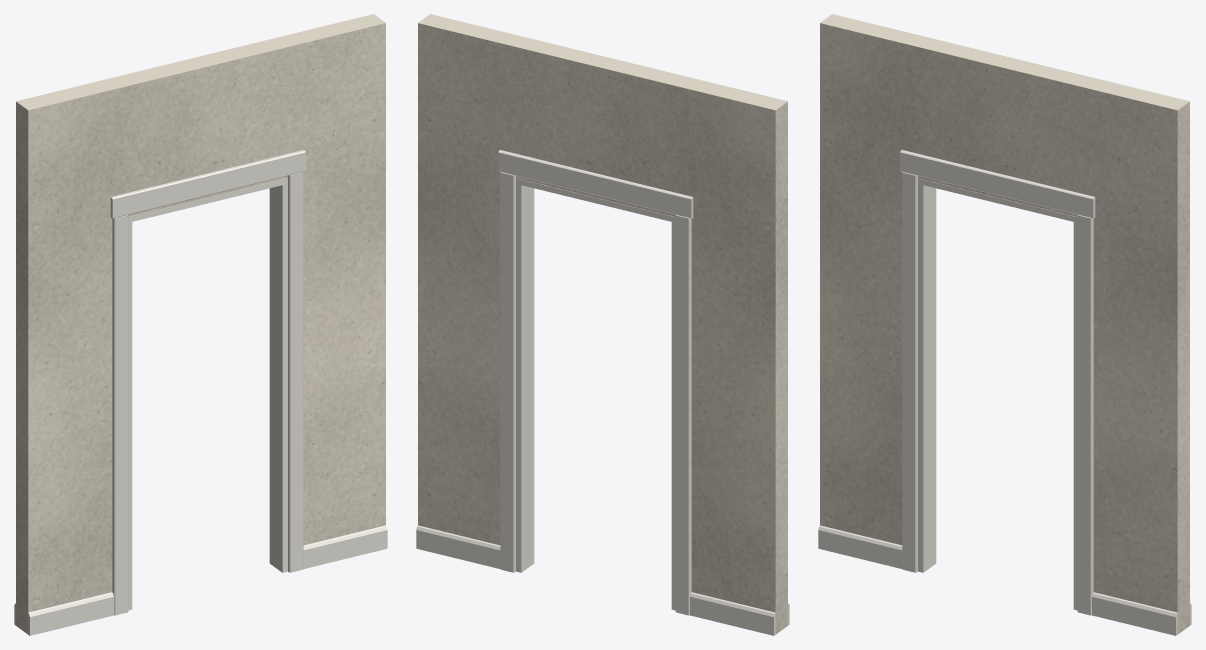
The model's file is interior_wall_doorway.glb.
The picture shows the model from 3 angles, left to right: view 1: azimuth 30°, elevation 25°; view 2: azimuth 150°, elevation 25°; view 3: azimuth 330°, elevation 25°; orthographic projection.
Visible parts, largest first — view 1: interior_wall_doorway_plaster, interior_wall_doorway_frame, interior_wall_doorway_trim; view 2: interior_wall_doorway_plaster, interior_wall_doorway_frame, interior_wall_doorway_trim; view 3: interior_wall_doorway_plaster, interior_wall_doorway_frame, interior_wall_doorway_trim.
Boxes of the visible parts, left/top/right/bottom form: interior_wall_doorway_plaster: left=16, top=14, right=385, bottom=634; interior_wall_doorway_frame: left=110, top=150, right=305, bottom=615; interior_wall_doorway_trim: left=14, top=525, right=387, bottom=635; interior_wall_doorway_plaster: left=418, top=14, right=787, bottom=634; interior_wall_doorway_frame: left=498, top=150, right=693, bottom=615; interior_wall_doorway_trim: left=416, top=525, right=789, bottom=635; interior_wall_doorway_plaster: left=820, top=14, right=1189, bottom=634; interior_wall_doorway_frame: left=900, top=150, right=1095, bottom=615; interior_wall_doorway_trim: left=818, top=525, right=1191, bottom=635.
Bounding box in the file's own units: 2 × 2.8 × 0.16.
3 materials, 1 textured.
